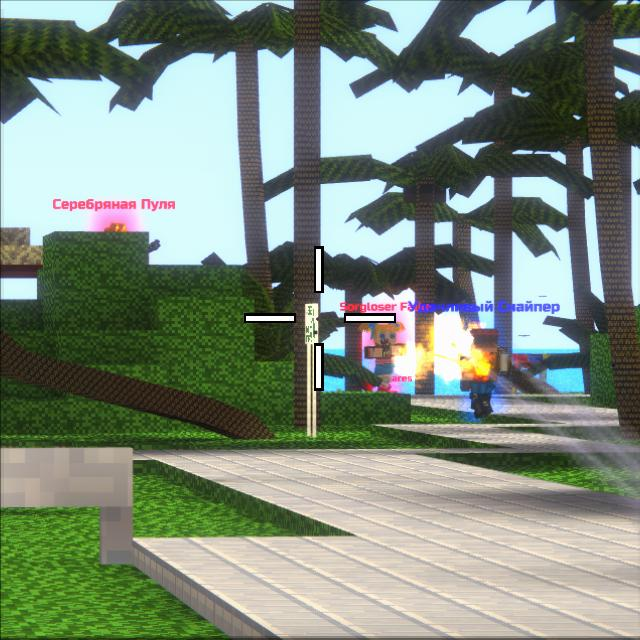Enemy: (361, 325, 401, 391), (97, 220, 138, 232)
